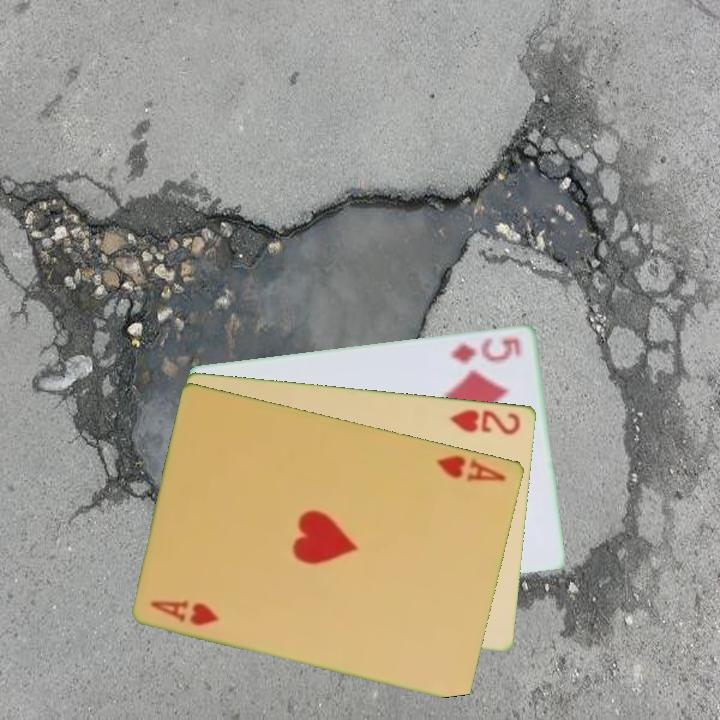2h: (447, 405, 524, 438)
5d: (447, 333, 524, 366)
Ah: (433, 451, 509, 485), (147, 596, 223, 629)
